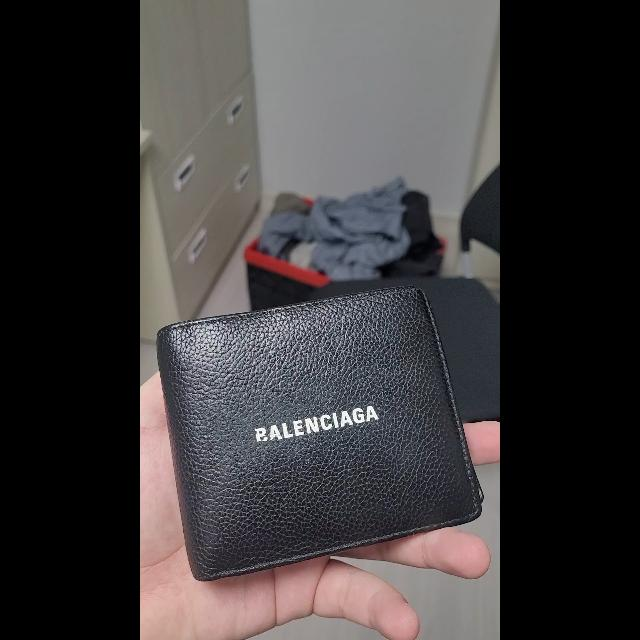WALLET: (156, 285, 484, 583)
